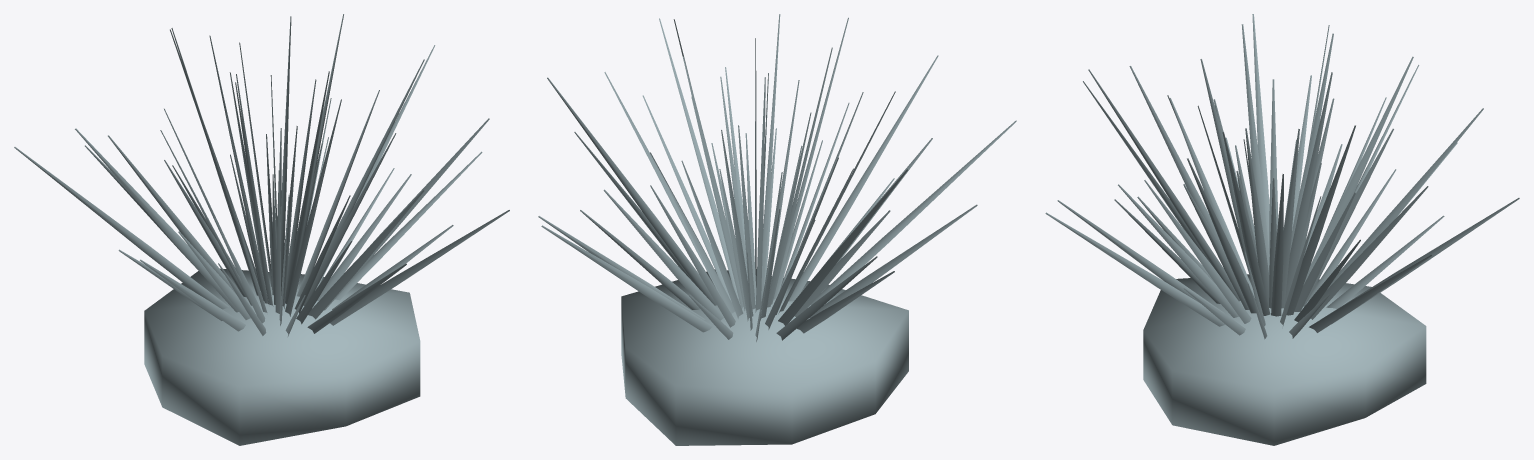
The model's file is grass_sheeps_fescue.glb.
3 renders of one model, left to right at view 1: azimuth 30°, elevation 25°; view 2: azimuth 150°, elevation 25°; view 3: azimuth 270°, elevation 25°, orthographic. The views are drawn at different scales.
Parts seen in each view (by area): view 1: Flora_Sheeps_Fescue; view 2: Flora_Sheeps_Fescue; view 3: Flora_Sheeps_Fescue.
Boxes of the visible parts, left/top/right/bottom form: Flora_Sheeps_Fescue: left=14, top=14, right=509, bottom=445; Flora_Sheeps_Fescue: left=538, top=14, right=1016, bottom=445; Flora_Sheeps_Fescue: left=1045, top=14, right=1519, bottom=445.
Size of the model in its own units: 0.5879 by 0.5292 by 0.6392.
